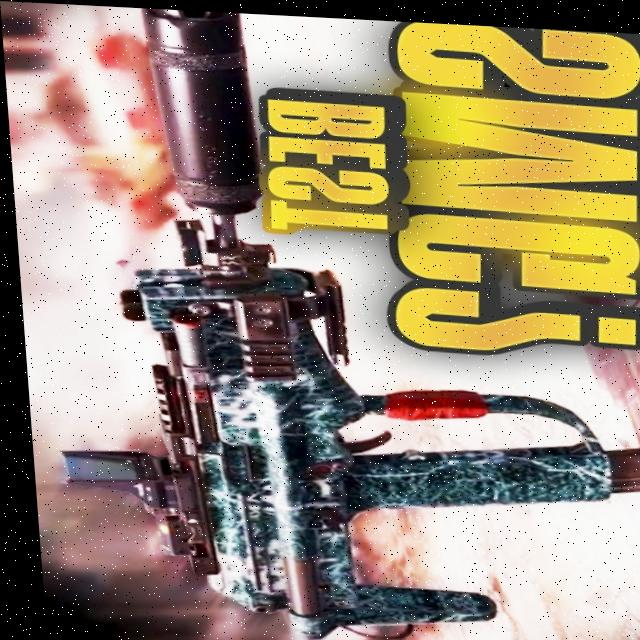firearm: (25, 1, 640, 640)
